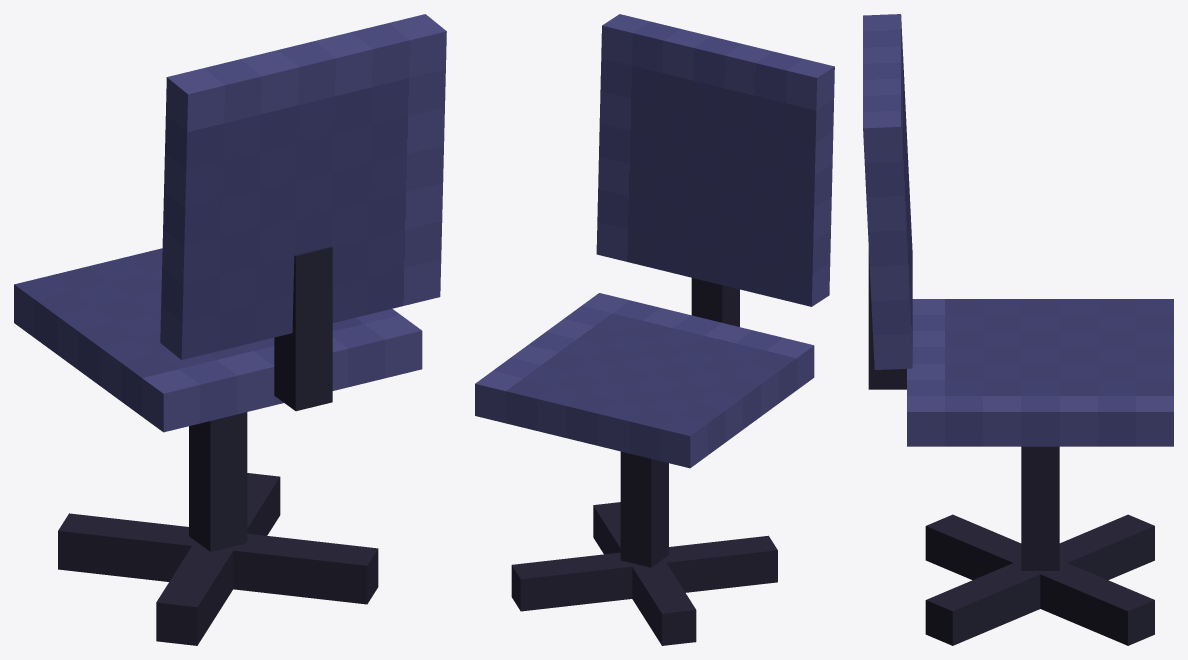
The model's file is ClassChair.glb.
3 views of the same model, side by side, from view 1: azimuth 30°, elevation 25°; view 2: azimuth 150°, elevation 25°; view 3: azimuth 270°, elevation 25° (orthographic). The views are drawn at different scales.
Visible parts, largest first — view 1: zetel (×2), Chair; view 2: zetel (×2), Chair; view 3: zetel (×2), Chair.
Boxes of the visible parts, x1,y1,x2,y2 form: zetel (×2): [14, 14, 446, 432]; Chair: [58, 246, 378, 645]; zetel (×2): [475, 14, 834, 468]; Chair: [511, 278, 777, 645]; zetel (×2): [863, 14, 1173, 446]; Chair: [868, 249, 1154, 645].
Bounding box in the file's own units: 0.4375 × 0.9529 × 0.5095.
1 material, 1 textured.
